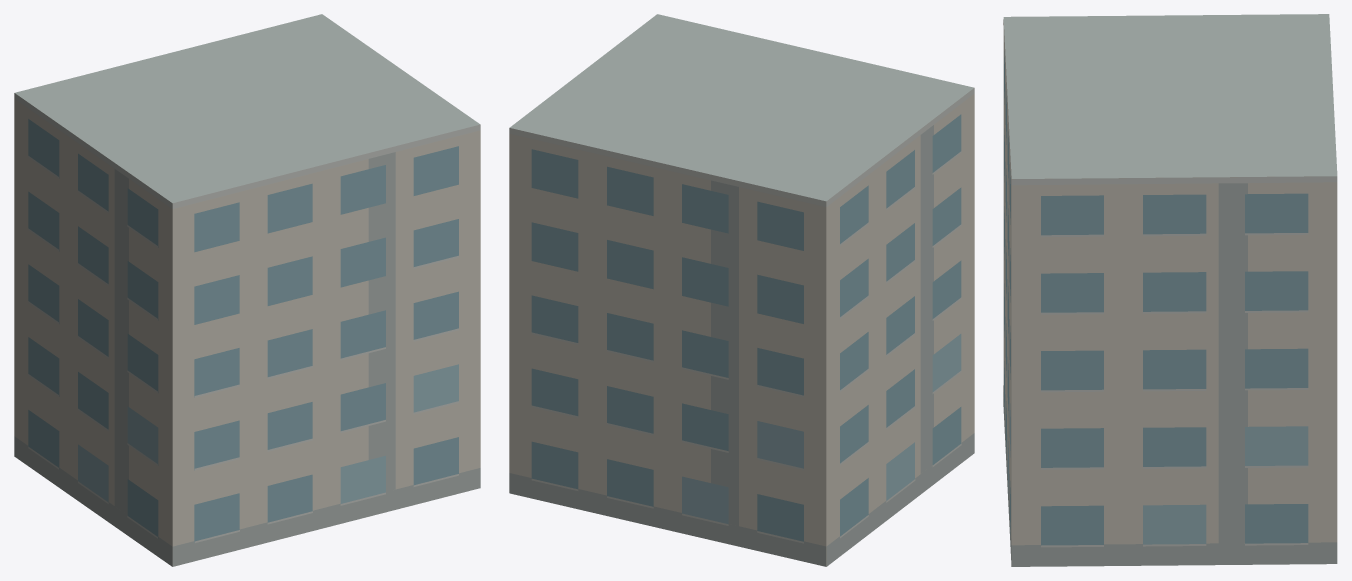
Rendered from residential-7b5f36ca-ead2-4972-96b9-0c2e2a510cba.glb.
3 renders of one model, left to right at view 1: azimuth 30°, elevation 25°; view 2: azimuth 150°, elevation 25°; view 3: azimuth 270°, elevation 25°, orthographic. The views are drawn at different scales.
Visible parts, largest first — view 1: residential-7b5f36ca-ead2-4972-96b9-0c2e2a510cba.tmp; view 2: residential-7b5f36ca-ead2-4972-96b9-0c2e2a510cba.tmp; view 3: residential-7b5f36ca-ead2-4972-96b9-0c2e2a510cba.tmp.
Boxes of the visible parts, x1,y1,x2,y2 form: residential-7b5f36ca-ead2-4972-96b9-0c2e2a510cba.tmp: (14,14,480,566); residential-7b5f36ca-ead2-4972-96b9-0c2e2a510cba.tmp: (509,14,974,566); residential-7b5f36ca-ead2-4972-96b9-0c2e2a510cba.tmp: (1003,14,1337,566).
Size of the model in its own units: 13.93 by 15.25 by 11.91.
